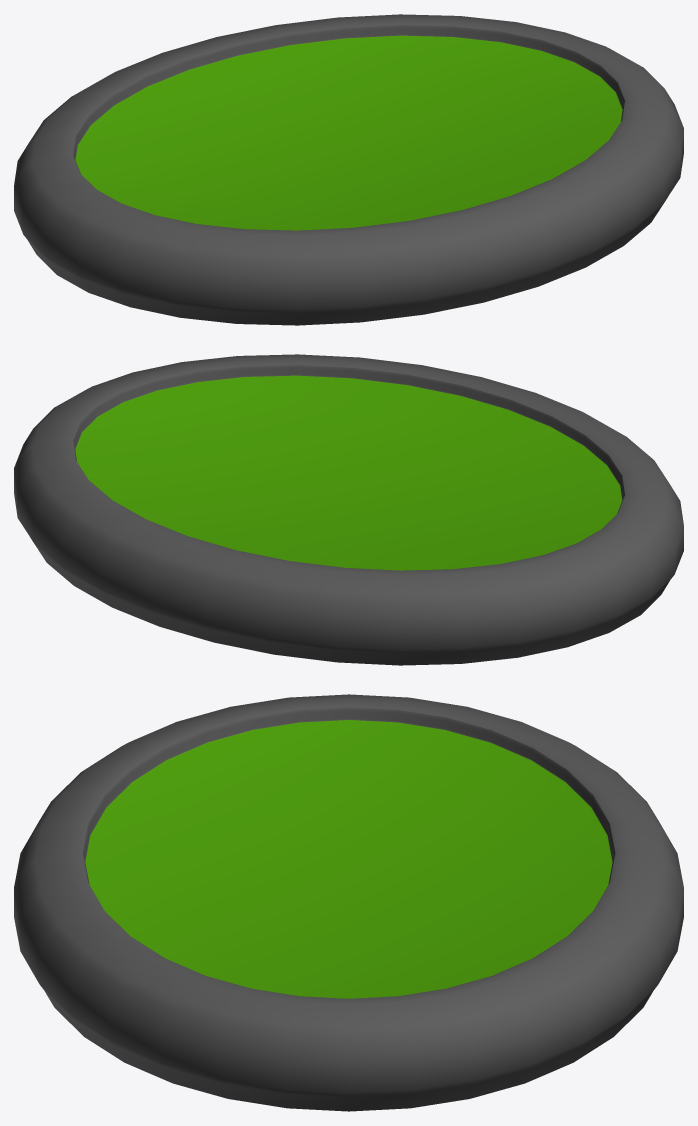
File: stepping-stone.glb
3 renders of one model, top to bottom at view 1: azimuth 30°, elevation 25°; view 2: azimuth 150°, elevation 25°; view 3: azimuth 270°, elevation 25°, orthographic. The views are drawn at different scales.
Visible parts, largest first — view 1: Cylinder; view 2: Cylinder; view 3: Cylinder.
Part boxes in pixels (<box>): Cylinder: <box>14,14,683,325</box>; Cylinder: <box>14,354,683,665</box>; Cylinder: <box>14,694,683,1111</box>.
Bounding box in the file's own units: 3.21 × 0.389 × 2.59.
